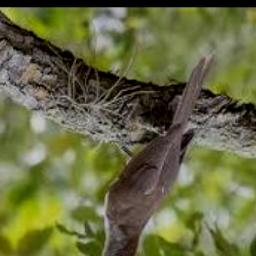Cuckoo: (85, 51, 217, 256)
